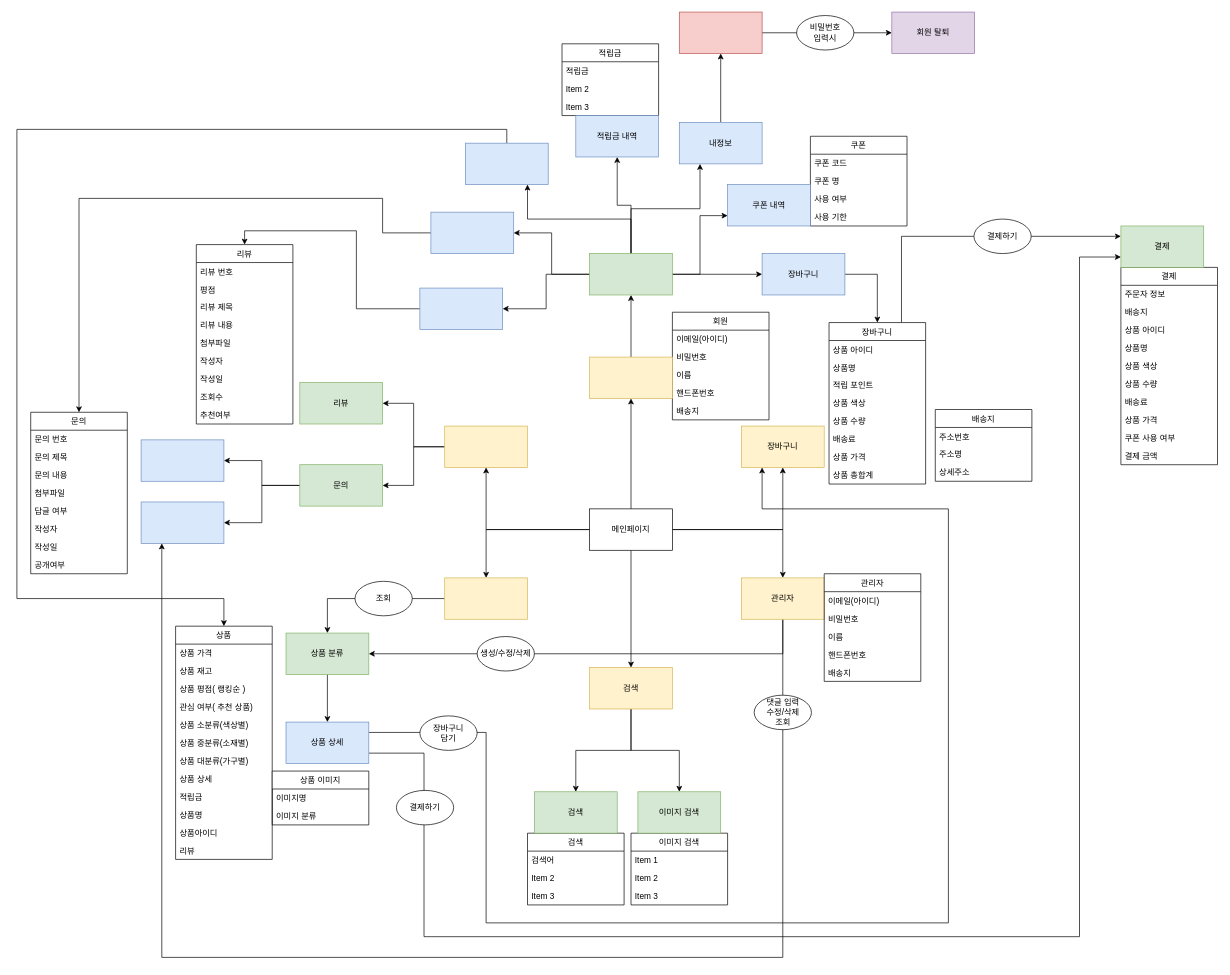
Image size: 1230x975. Some labels were removed from this diagram. The centre of each missing label's shape, as x and y in pixels:
1:1 질문: (x=182, y=522)
고객센터: (x=486, y=446)
관심 상품 내역: (x=506, y=163)
내 리뷰: (x=461, y=308)
내문의: (x=472, y=232)
로그인: (x=630, y=377)
마이페이지: (x=630, y=274)
스토어: (x=486, y=598)
자주묻는 질문: (x=182, y=460)
정보 수정: (x=720, y=32)
